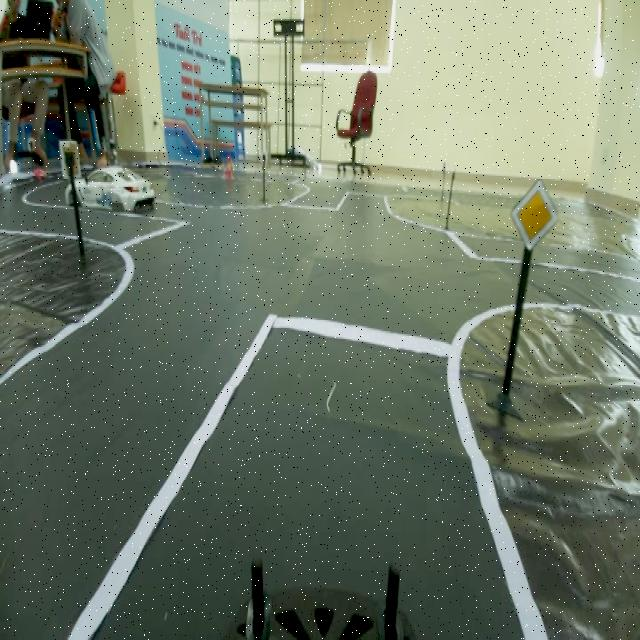priority: (510, 180, 560, 254)
